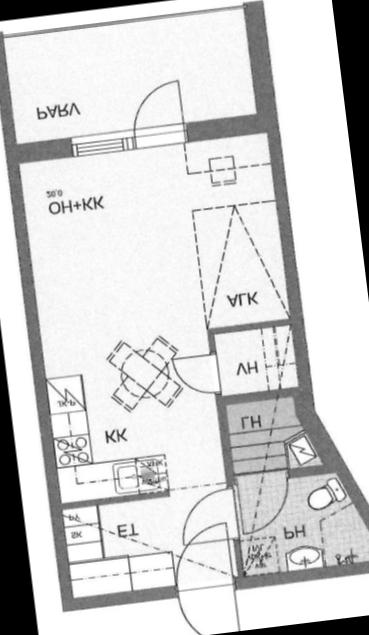door: (165, 518, 236, 596), (174, 484, 244, 550), (231, 466, 294, 536), (125, 78, 188, 148), (167, 576, 241, 635), (169, 345, 227, 403)
window: (66, 124, 136, 163)
